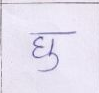u_matra: (39, 53, 61, 73)
